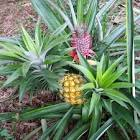Pineapple: (8, 39, 88, 105)
